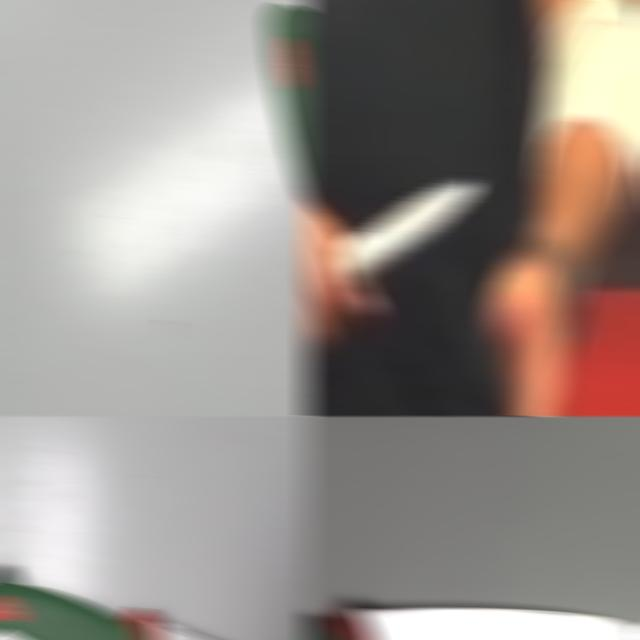Knife: (338, 177, 480, 287), (0, 573, 214, 640), (302, 604, 640, 640)
Knife_Handle: (302, 175, 481, 371)
